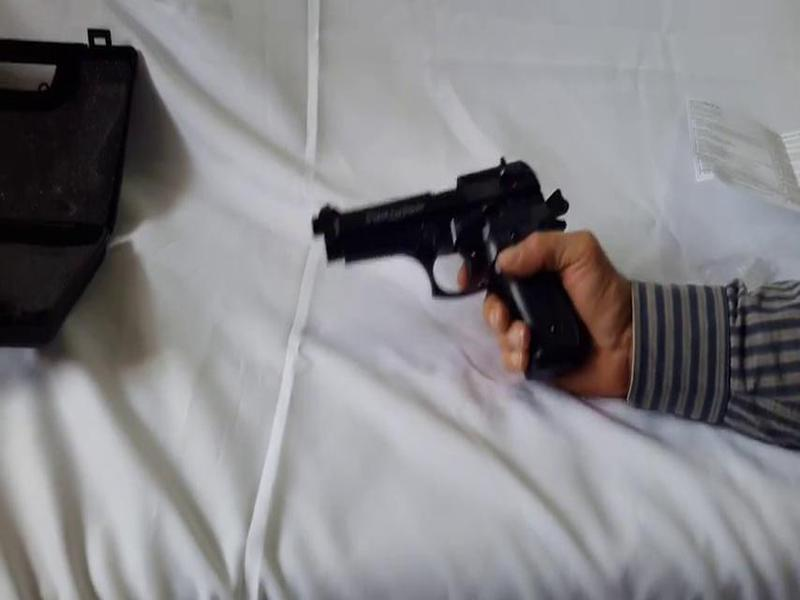Pistola: (312, 149, 589, 384)
